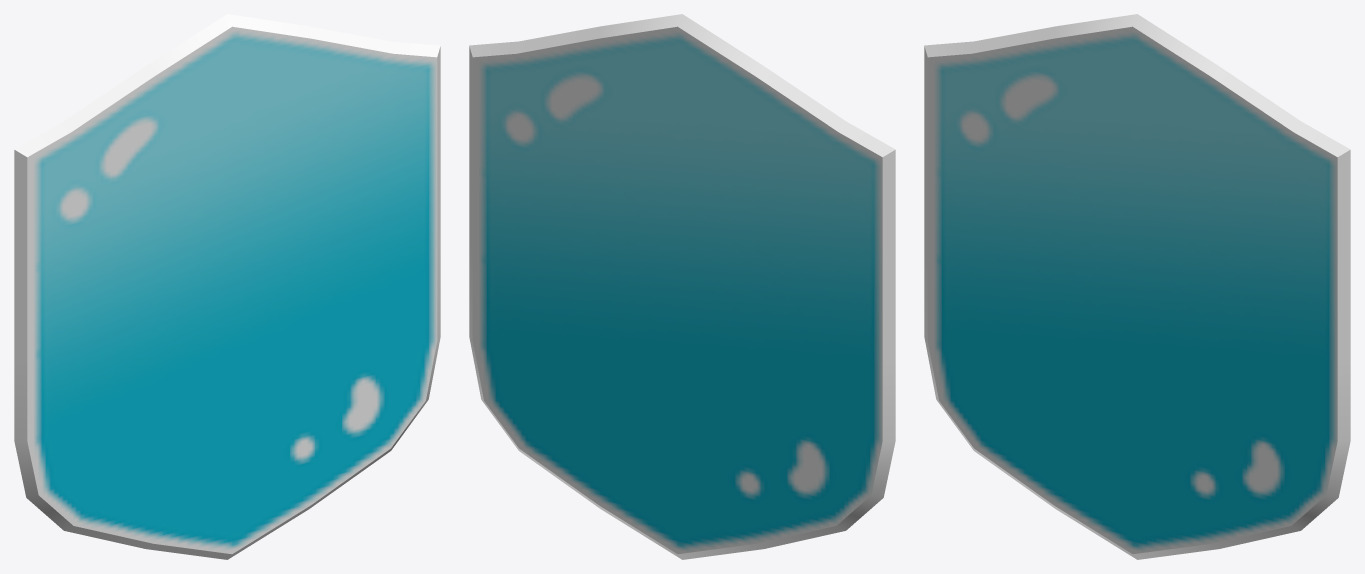
Rendered from PowerUP_Shield.fbx.
3 views of the same model, side by side, from view 1: azimuth 30°, elevation 25°; view 2: azimuth 150°, elevation 25°; view 3: azimuth 330°, elevation 25° (orthographic).
Visible parts, largest first — view 1: pCube4; view 2: pCube4; view 3: pCube4.
Part boxes in pixels (<box>): pCube4: <box>14,14,440,559</box>; pCube4: <box>469,14,895,559</box>; pCube4: <box>924,14,1350,559</box>.
Size of the model in its own units: 26.06 by 31.89 by 1.01.
1 material, 1 textured.
